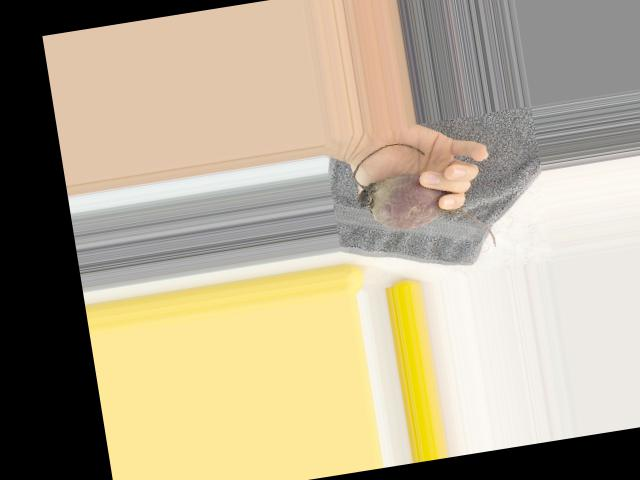beet: (350, 130, 496, 266)
